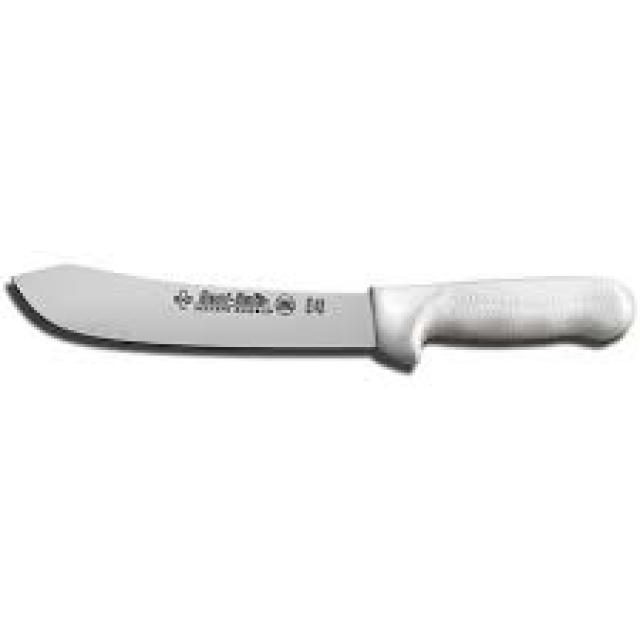knife: (10, 249, 636, 393)
